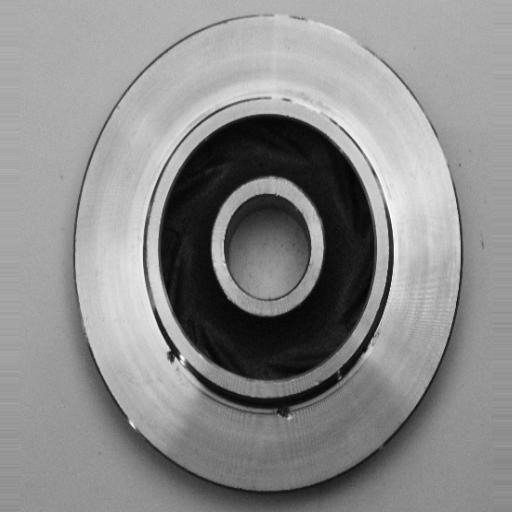crack: (154, 341, 197, 388), (268, 398, 299, 426)
scratch: (265, 85, 337, 122)
unpolished_casting: (72, 9, 466, 501)
